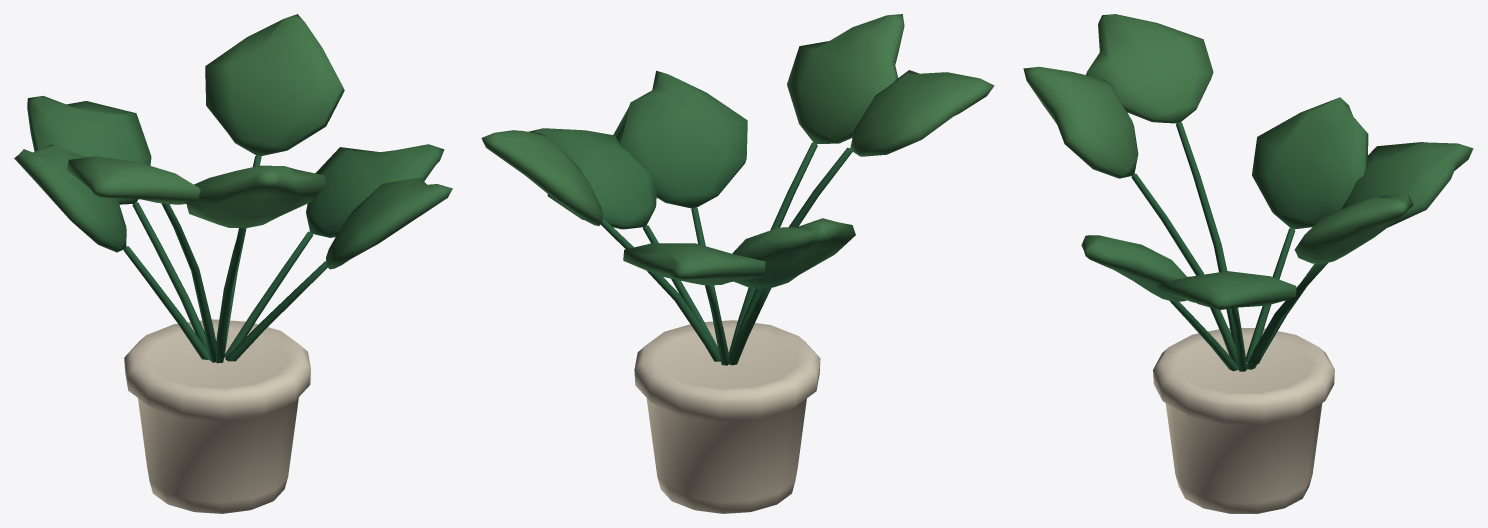
File: monstera.glb
3 views of the same model, side by side, from view 1: azimuth 30°, elevation 25°; view 2: azimuth 150°, elevation 25°; view 3: azimuth 270°, elevation 25° (orthographic). The views are drawn at different scales.
Visible parts, largest first — view 1: monstera; view 2: monstera; view 3: monstera.
Part boxes in pixels (left/top/right/bottom): monstera: left=14, top=14, right=452, bottom=513; monstera: left=481, top=14, right=994, bottom=513; monstera: left=1023, top=14, right=1473, bottom=513.
Bounding box in the file's own units: 1.06 × 1.01 × 1.05.
